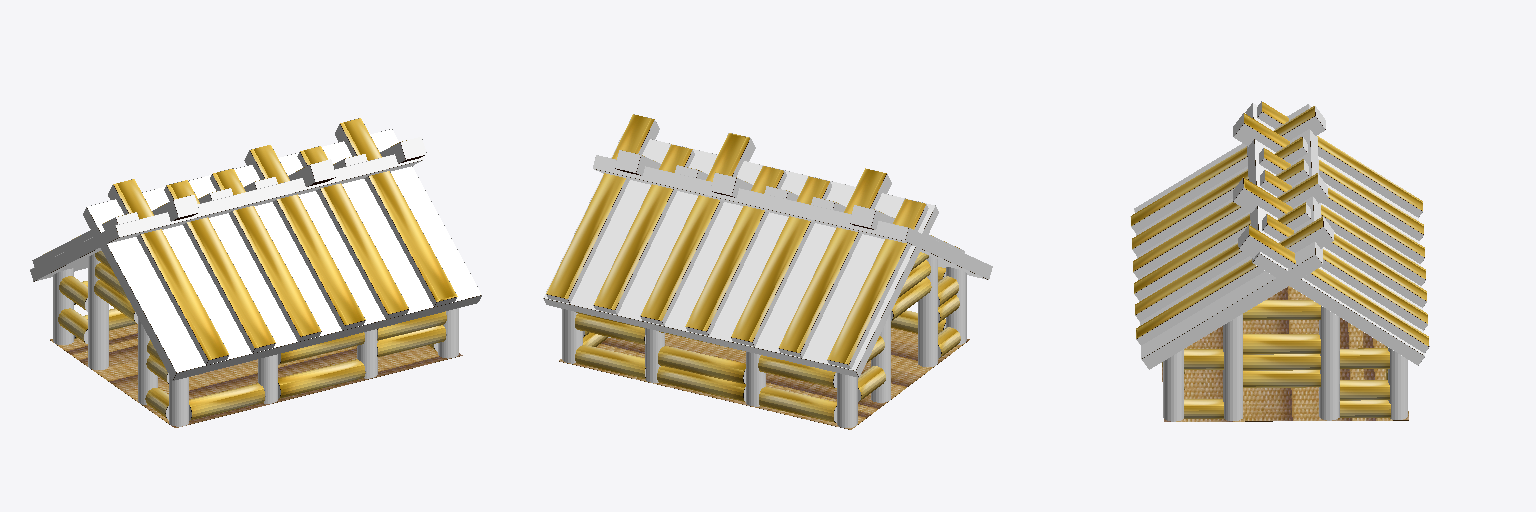
3 renders of one model, left to right at view 1: azimuth 30°, elevation 25°; view 2: azimuth 150°, elevation 25°; view 3: azimuth 270°, elevation 25°, orthographic.
Parts seen in each view (by area): view 1: Part178, Part129, Part281, Part9, Part220, Part186, Part135, Part256, Part211, Part177, Part180, Part210 (+24 smaller); view 2: Part212, Part129, Part226, Part76, Part374, Part179, Part81, Part294, Part141, Part152, Part213, Part180 (+25 smaller); view 3: Part129, Part178, Part175, Part212, Part209, Part378, Part281, Part9, Part329, Part220, Part374, Part277 (+28 smaller).
Part boxes in pixels (x1,y1,x2,y2): Part178: (87, 129, 481, 372); Part129: (50, 324, 462, 427); Part281: (340, 118, 457, 301); Part9: (113, 179, 228, 359); Part220: (250, 145, 365, 324); Part186: (213, 169, 320, 336); Part135: (167, 180, 275, 347); Part256: (300, 146, 408, 313); Part211: (116, 154, 424, 236); Part177: (173, 295, 481, 380); Part180: (83, 207, 175, 380); Part210: (37, 160, 422, 280); Part212: (544, 133, 934, 370); Part129: (559, 328, 969, 429); Part226: (641, 133, 749, 320); Part76: (779, 168, 886, 352); Part374: (546, 114, 654, 298); Part179: (593, 155, 907, 240); Part81: (827, 199, 925, 364); Part294: (594, 144, 692, 309); Part141: (731, 176, 829, 341); Part152: (685, 166, 783, 330); Part213: (543, 298, 858, 377); Part180: (905, 228, 992, 279); Part129: (1162, 286, 1408, 421); Part178: (1134, 104, 1314, 358); Part175: (1142, 255, 1322, 369); Part212: (1253, 103, 1424, 355); Part209: (1253, 254, 1424, 364); Part378: (1239, 236, 1428, 352); Part281: (1136, 216, 1322, 338); Part9: (1131, 106, 1314, 225); Part329: (1322, 307, 1336, 420); Part220: (1134, 173, 1317, 293); Part374: (1249, 225, 1428, 345); Part277: (1136, 227, 1333, 345).
Size of the model in its own units: 35.88 by 21 by 29.6.
Materials: 10 (2 with a texture image).